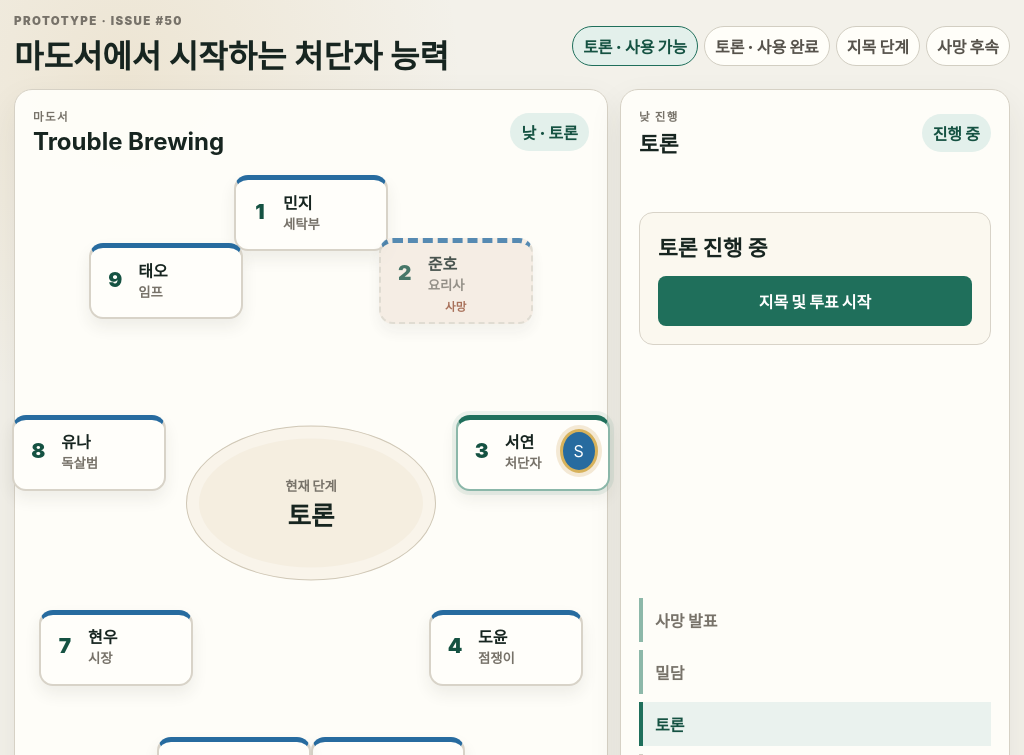
Test case: requires an explicit per-shot Recluse registration decision
Click the button named "3번 서연 처단자 능력 사용" at (579, 451), box x1=560 y1=429 x2=598 y2=473
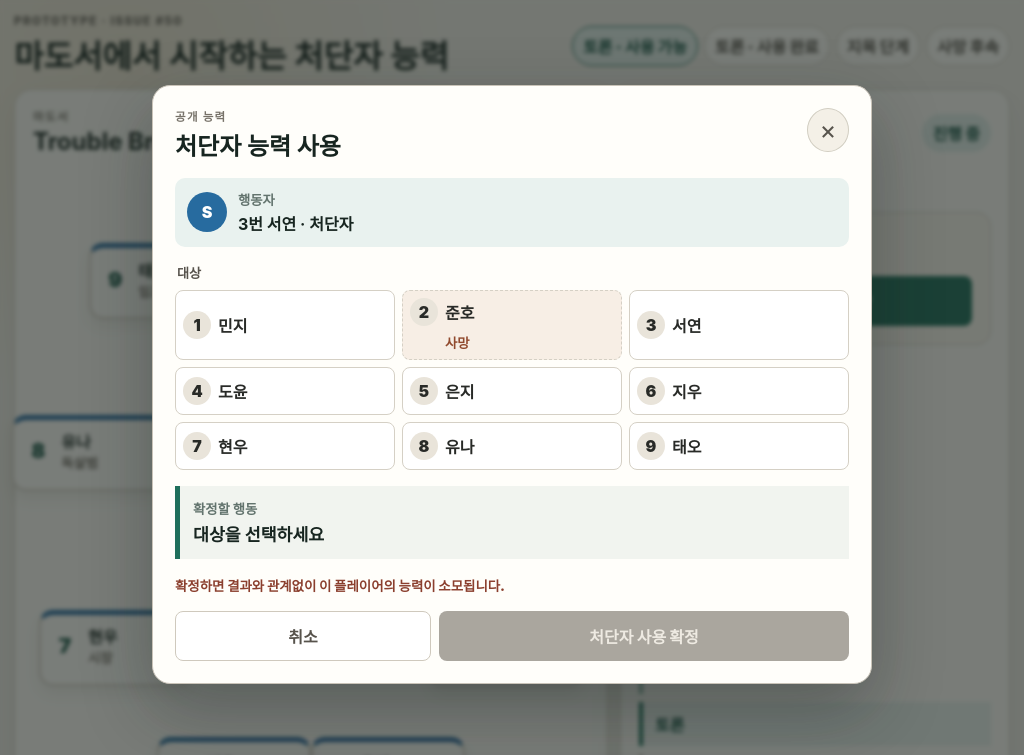
Click the button with aria-label "5번 은지" at (512, 390), box x1=402 y1=366 x2=622 y2=414
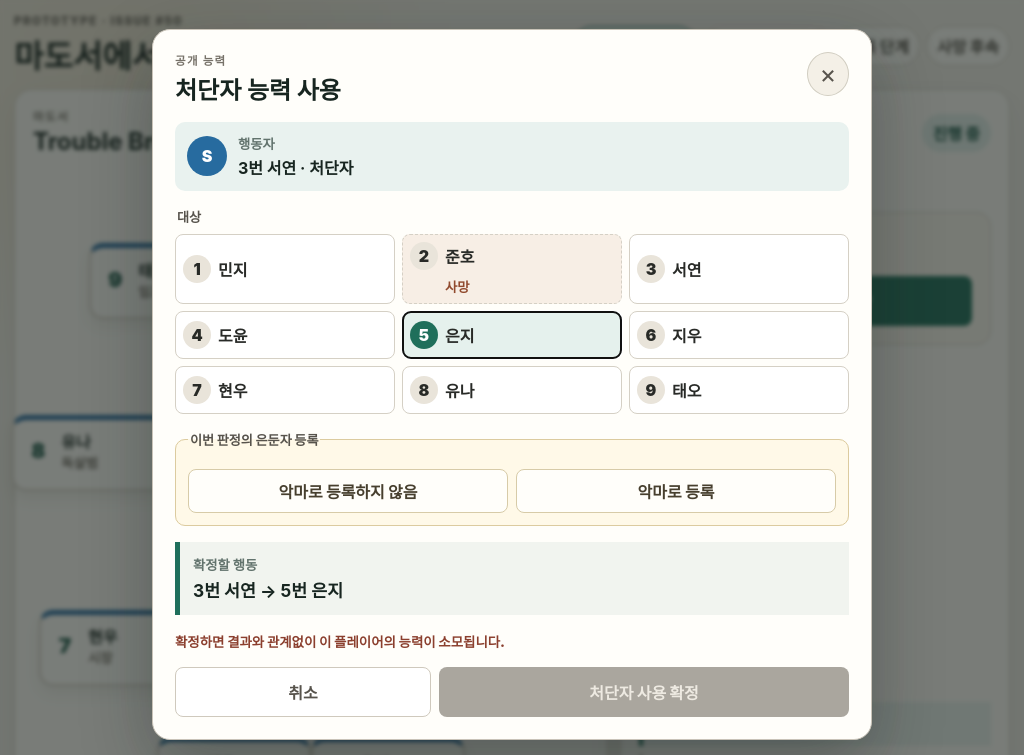
Expected: the button "처단자 사용 확정" is disabled, x1=439 y1=666 x2=849 y2=716
Expected: the text "이번 판정의 은둔자 등록" is shown, x1=188 y1=430 x2=320 y2=448
Click the button "악마로 등록" at (676, 490), box x1=516 y1=468 x2=836 y2=512
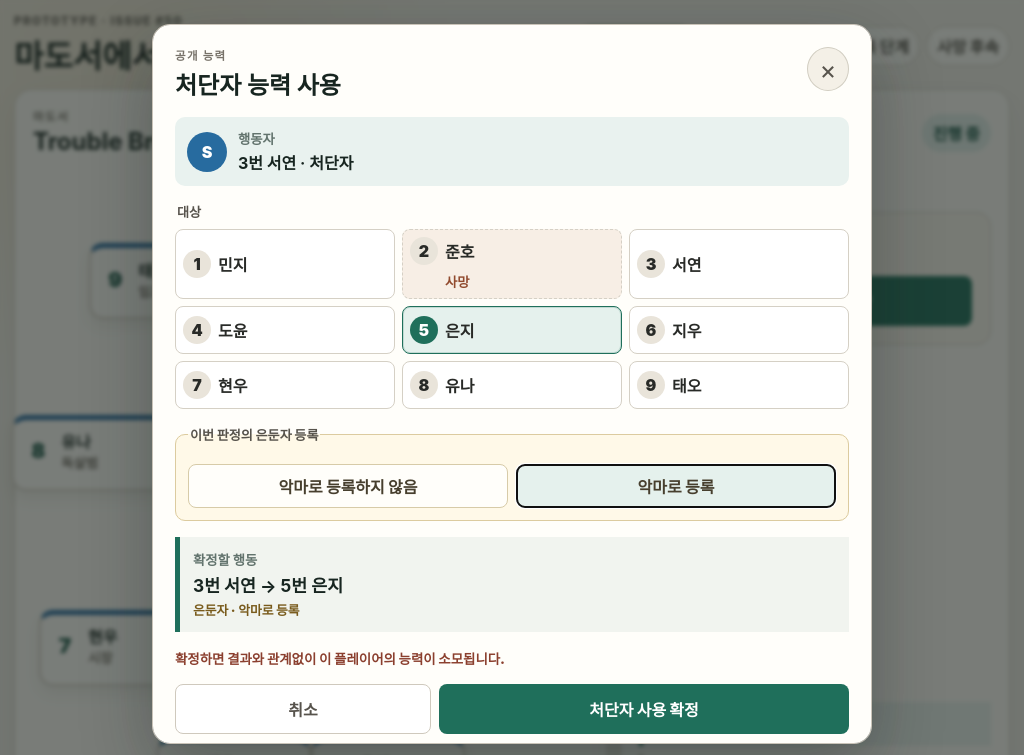
Expected: the button "처단자 사용 확정" is enabled, x1=439 y1=684 x2=849 y2=734
